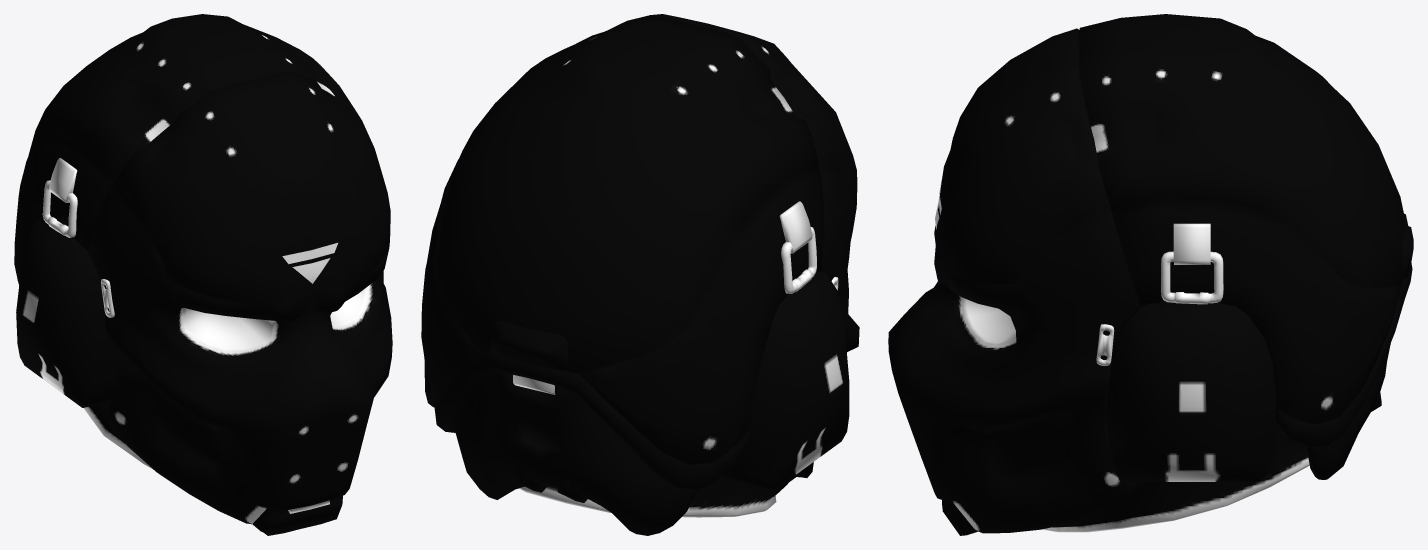
Rendered from SurvivorMale_Head_Helmet_TacShell_LOD0.glb.
3 views of the same model, side by side, from view 1: azimuth 30°, elevation 25°; view 2: azimuth 150°, elevation 25°; view 3: azimuth 270°, elevation 25° (orthographic). The views are drawn at different scales.
Parts seen in each view (by area): view 1: Hoodie; view 2: Hoodie; view 3: Hoodie.
Boxes of the visible parts, x1,y1,x2,y2 form: Hoodie: (14,14,392,535); Hoodie: (421,14,859,535); Hoodie: (888,14,1413,535).
Size of the model in its own units: 0.2195 by 0.2588 by 0.2539.
1 material, 1 textured.
